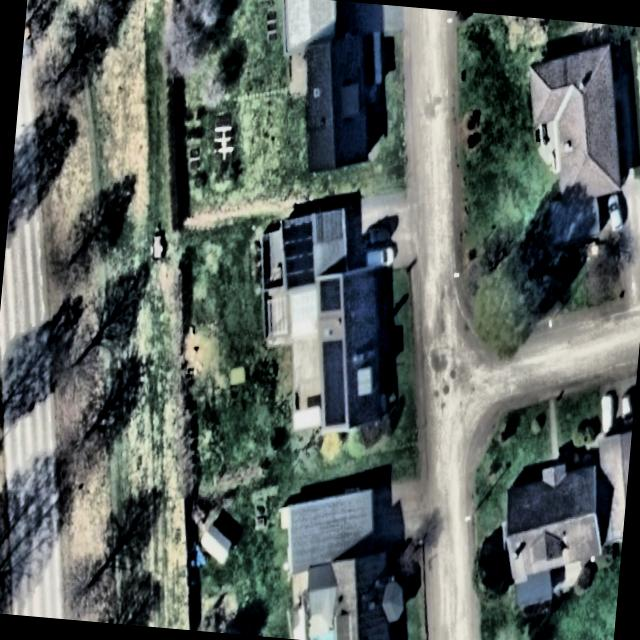roof_pv: (312, 336, 354, 430), (315, 270, 344, 320)
